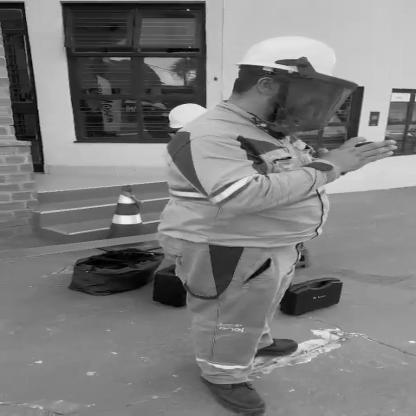helmet: (240, 32, 366, 138), (163, 99, 213, 133)
